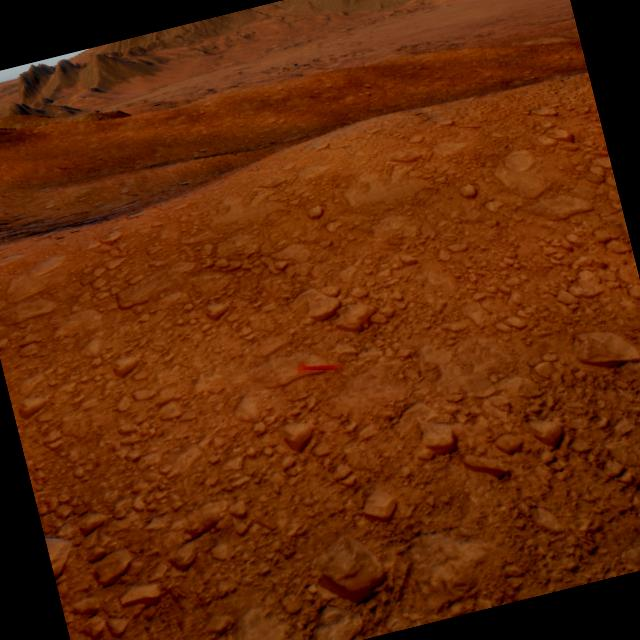newhammer: (296, 353, 339, 378)
